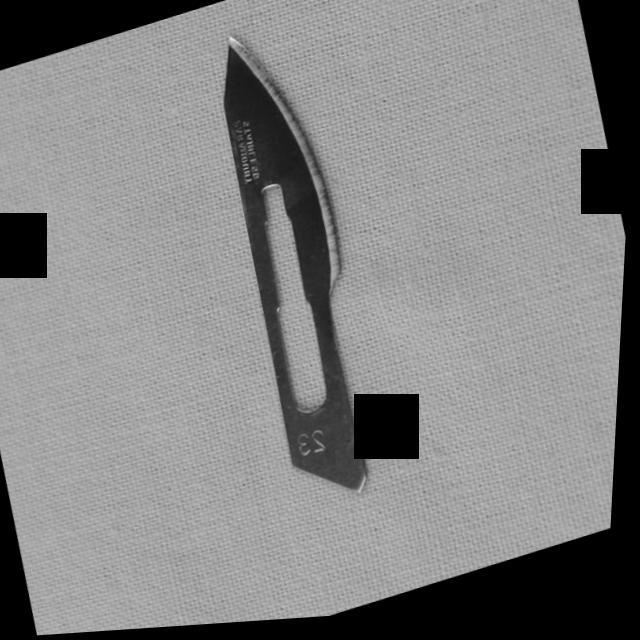Surgical blade: (176, 6, 420, 528)
